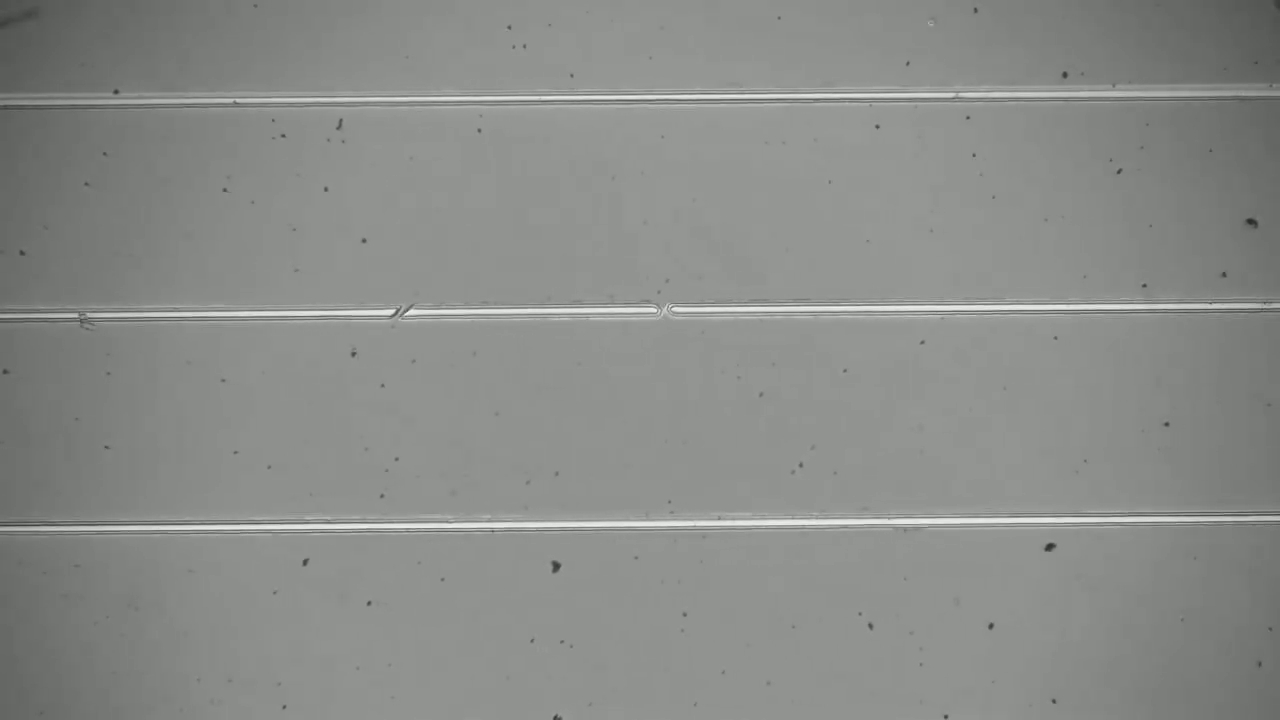open: (381, 292, 424, 335), (642, 295, 687, 326)
stains_enbedded: (64, 301, 107, 339)
